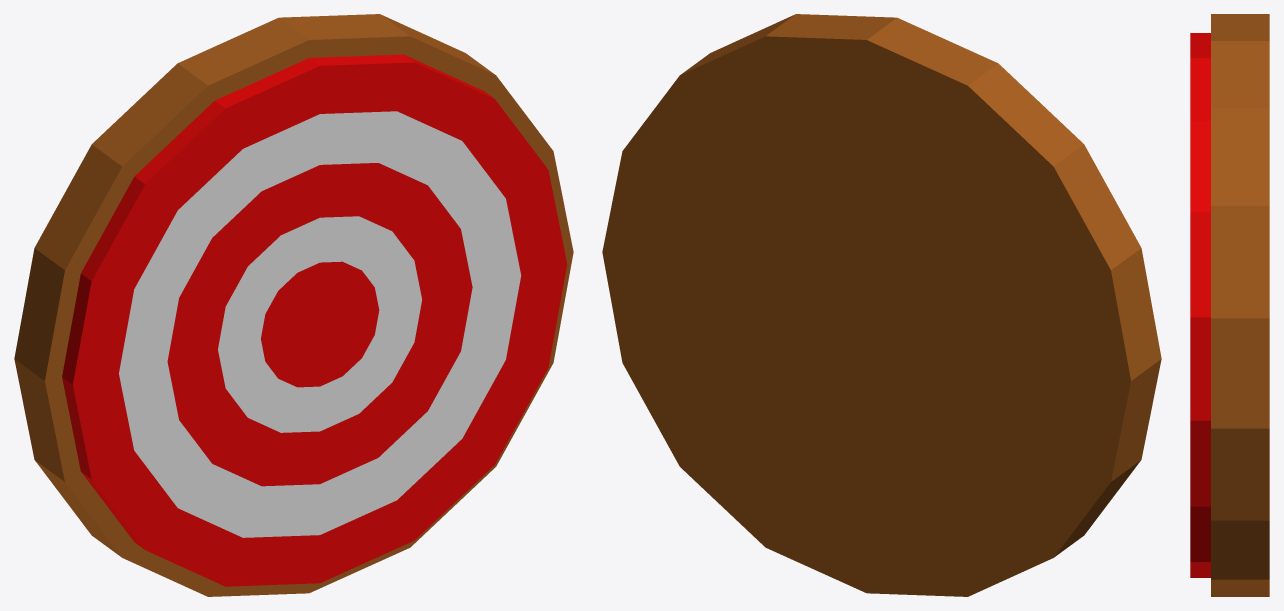
File: Target.fbx
The picture shows the model from 3 angles, left to right: view 1: azimuth 30°, elevation 25°; view 2: azimuth 150°, elevation 25°; view 3: azimuth 270°, elevation 25°; orthographic projection. The views are drawn at different scales.
Parts seen in each view (by area): view 1: Target; view 2: Target; view 3: Target.
Part boxes in pixels (box(x1,y1,x2,y2)): Target: box(14, 14, 573, 596); Target: box(602, 14, 1161, 596); Target: box(1190, 14, 1269, 596).
Size of the model in its own units: 196 by 196 by 26.51.
